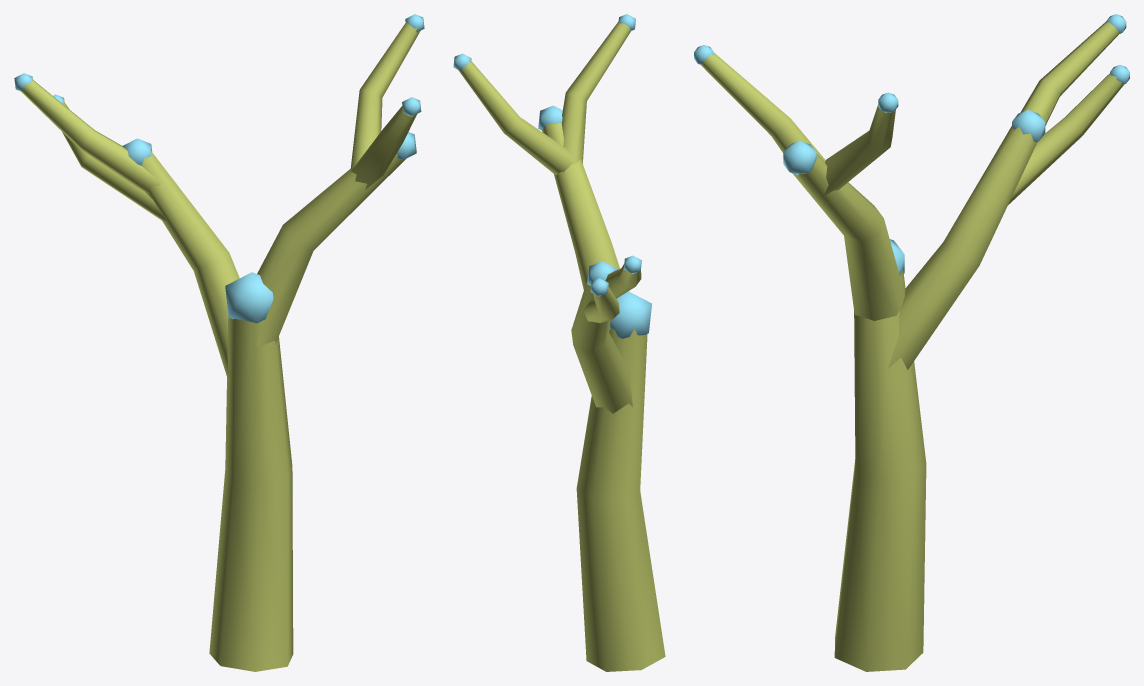
File: coral_spire.fbx
3 renders of one model, left to right at view 1: azimuth 30°, elevation 25°; view 2: azimuth 150°, elevation 25°; view 3: azimuth 270°, elevation 25°, orthographic. The views are drawn at different scales.
Visible parts, largest first — view 1: coral_spire_LOD0; view 2: coral_spire_LOD0; view 3: coral_spire_LOD0.
Boxes of the visible parts, box(x1,y1,x2,y2) form: coral_spire_LOD0: box(14, 14, 424, 671); coral_spire_LOD0: box(453, 14, 665, 671); coral_spire_LOD0: box(694, 14, 1129, 671).
Size of what is drawn, in the model's own units: 2.83 by 5.39 by 3.27.
